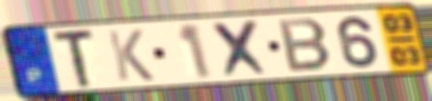1: (177, 22, 214, 82)
6: (334, 14, 382, 70)
B: (275, 17, 335, 74)
K: (104, 28, 157, 83)
T: (51, 26, 98, 91)
X: (209, 18, 275, 80)
